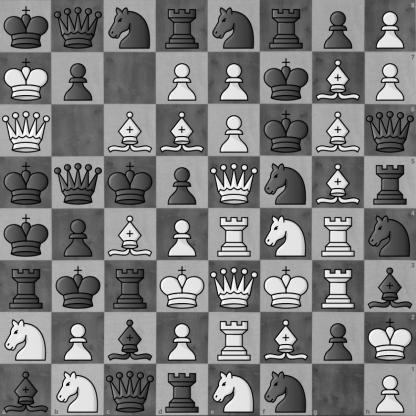B: (105, 105, 156, 156), (105, 209, 156, 260), (157, 105, 208, 156), (261, 313, 312, 364), (313, 53, 364, 104), (313, 105, 364, 156), (313, 157, 364, 208)
K: (364, 312, 416, 364), (1, 53, 52, 104), (157, 261, 208, 312), (261, 261, 312, 312)
N: (52, 364, 104, 416), (209, 364, 260, 416), (1, 313, 52, 364), (261, 209, 312, 260)
P: (364, 0, 416, 52), (364, 52, 416, 104), (364, 364, 416, 416), (53, 313, 104, 364), (157, 53, 208, 104), (157, 209, 208, 260), (157, 313, 208, 364), (209, 53, 260, 104), (209, 105, 260, 156)
Q: (1, 105, 52, 156), (209, 157, 260, 208), (209, 261, 260, 312)
R: (209, 209, 260, 260), (209, 313, 260, 364), (313, 209, 364, 260), (313, 261, 364, 312)
b: (0, 364, 52, 416), (364, 260, 416, 312), (105, 313, 156, 364)
board: (0, 0, 415, 415)
k: (1, 1, 52, 52), (1, 157, 52, 208), (1, 209, 52, 260), (53, 261, 104, 312), (105, 157, 156, 208), (261, 53, 312, 104), (261, 105, 312, 156)
n: (260, 364, 312, 416), (364, 209, 416, 260), (105, 1, 156, 52), (209, 1, 260, 52), (261, 157, 312, 208)
p: (53, 53, 104, 104), (53, 209, 104, 260), (157, 157, 208, 208), (313, 1, 364, 52), (313, 313, 364, 364)
q: (104, 364, 156, 416), (364, 104, 416, 156), (53, 1, 104, 52), (53, 157, 104, 208)
r: (156, 364, 209, 416), (364, 156, 416, 209), (1, 261, 52, 312), (105, 261, 156, 312), (157, 1, 208, 52), (261, 1, 312, 52)
